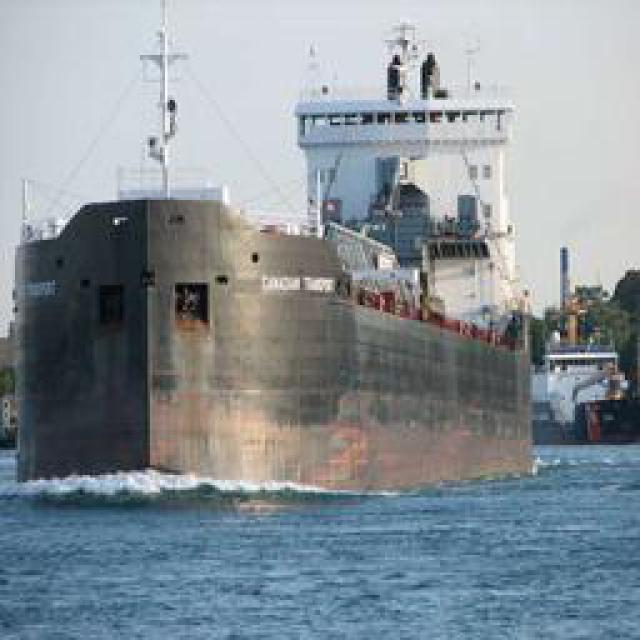Ship: (16, 2, 556, 507)
